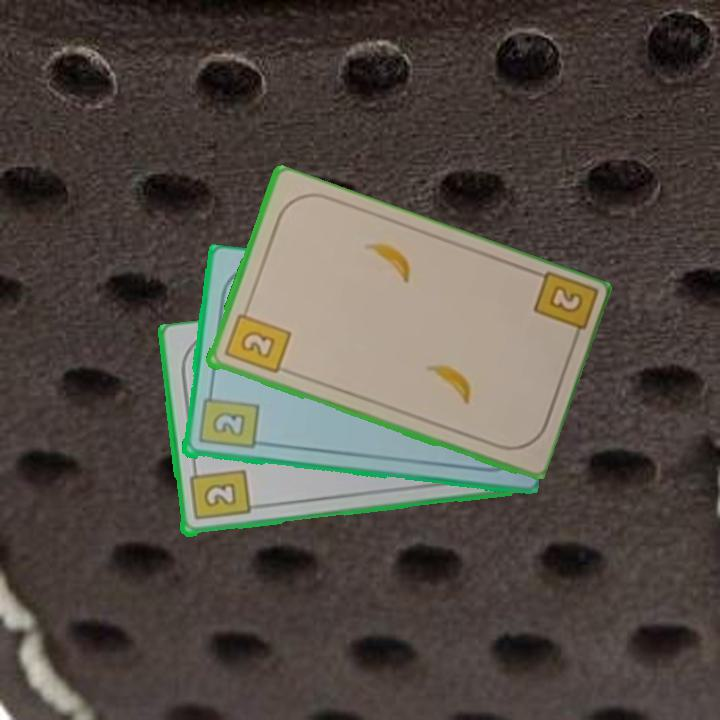2b: (220, 302, 293, 377), (529, 269, 597, 349), (195, 386, 260, 453), (186, 462, 252, 524)
